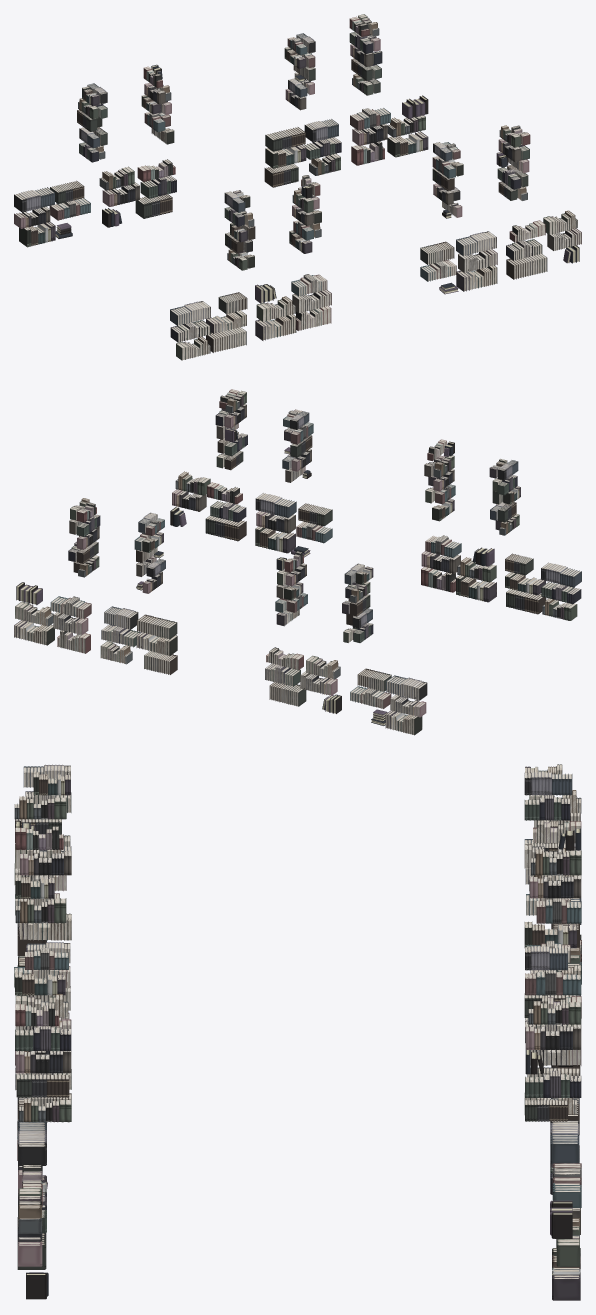
File: FYP_asset_library_books_all_spencer.fbx
The picture shows the model from 3 angles, top to bottom: view 1: azimuth 30°, elevation 25°; view 2: azimuth 150°, elevation 25°; view 3: azimuth 270°, elevation 25°; orthographic projection. The views are drawn at different scales.
Visible parts, largest first — view 1: book_bunch_C1 (×2), book_bunch_A (×2), book_bunch_C (×2), book_bunch_B (×2), book_bunch_A3 (×2), book_bunch_B1 (×2), book_bunch_C2 (×2), book_bunch_G1 (×2), book_bunch_F1 (×2), book_bunch_E1 (×2), book_bunch_D1 (×2), book_bunch_A2 (×2) (+9 smaller); view 2: book_bunch_C1 (×2), book_bunch_B (×2), book_bunch_C (×2), book_bunch_A (×2), book_bunch_A3 (×2), book_bunch_B1 (×2), book_bunch_C2 (×2), book_bunch_F1 (×2), book_bunch_G1 (×2), book_bunch_E1 (×2), book_bunch_H1 (×2), book_bunch_G (×2) (+9 smaller); view 3: book_bunch_C1 (×3), book_bunch_B1 (×2), book_bunch_G1 (×2), book_bunch_B (×2), book_bunch_F (×2), book_bunch_D (×2), book_bunch_F1 (×2), book_bunch_D3 (×2), book_bunch_E1 (×2), book_bunch_H, book_bunch_G, book_bunch_H2 (+13 smaller).
Part boxes in pixels (bbox=[...]): book_bunch_C1 (×2): bbox=[255, 131, 428, 340]; book_bunch_A (×2): bbox=[135, 194, 547, 279]; book_bunch_C (×2): bbox=[19, 222, 497, 291]; book_bunch_B (×2): bbox=[14, 187, 496, 255]; book_bunch_A3 (×2): bbox=[206, 164, 298, 352]; book_bunch_B1 (×2): bbox=[170, 119, 338, 325]; book_bunch_C2 (×2): bbox=[206, 145, 306, 333]; book_bunch_G1 (×2): bbox=[291, 108, 390, 296]; book_bunch_F1 (×2): bbox=[256, 115, 425, 321]; book_bunch_E1 (×2): bbox=[296, 141, 384, 330]; book_bunch_D1 (×2): bbox=[14, 206, 497, 272]; book_bunch_A2 (×2): bbox=[218, 127, 305, 313]; book_bunch_C1 (×2): bbox=[14, 575, 496, 645]; book_bunch_B (×2): bbox=[255, 493, 427, 700]; book_bunch_C (×2): bbox=[255, 526, 422, 735]; book_bunch_A (×2): bbox=[205, 515, 306, 706]; book_bunch_A3 (×2): bbox=[144, 589, 546, 674]; book_bunch_B1 (×2): bbox=[104, 562, 581, 629]; book_bunch_C2 (×2): bbox=[136, 572, 545, 655]; book_bunch_F1 (×2): bbox=[15, 557, 496, 626]; book_bunch_G1 (×2): bbox=[50, 535, 461, 618]; book_bunch_E1 (×2): bbox=[57, 567, 455, 653]; book_bunch_H1 (×2): bbox=[101, 582, 581, 647]; book_bunch_G (×2): bbox=[296, 521, 391, 708]; book_bunch_C1 (×3): bbox=[19, 913, 580, 1300]; book_bunch_B1 (×2): bbox=[524, 772, 579, 1163]; book_bunch_G1 (×2): bbox=[536, 898, 581, 1207]; book_bunch_B (×2): bbox=[18, 946, 567, 1165]; book_bunch_F (×2): bbox=[18, 1000, 581, 1233]; book_bunch_D (×2): bbox=[18, 1024, 581, 1266]; book_bunch_F1 (×2): bbox=[531, 849, 581, 1266]; book_bunch_D3 (×2): bbox=[15, 1050, 581, 1073]; book_bunch_E1 (×2): bbox=[15, 819, 581, 849]; book_bunch_H: bbox=[525, 1070, 581, 1097]; book_bunch_G: bbox=[525, 970, 581, 995]; book_bunch_H2: bbox=[15, 1026, 71, 1051].
Size of the model in its own units: 34.97 by 11.85 by 24.57.
